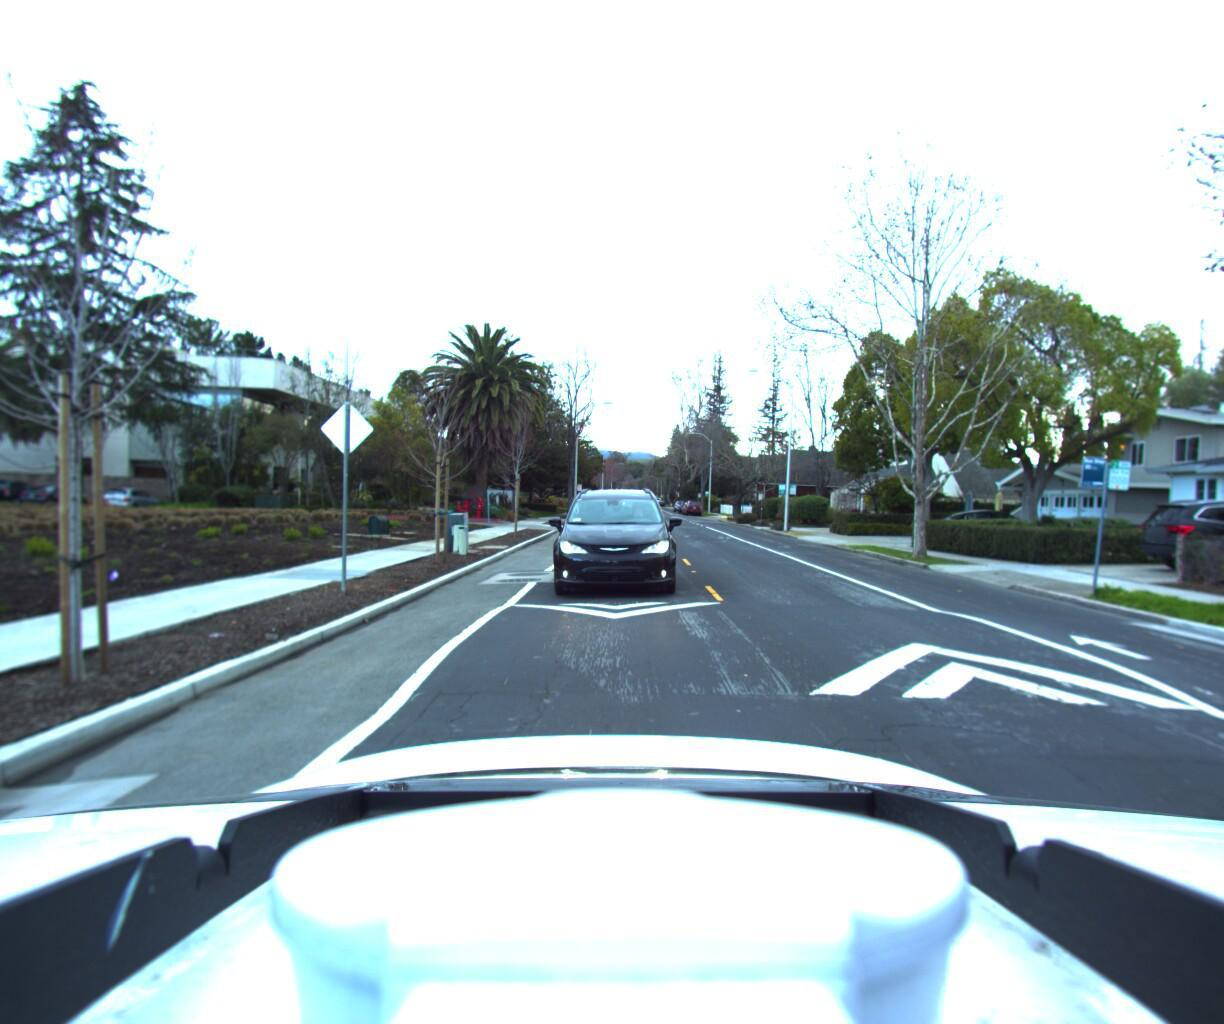car: (547, 481, 678, 603), (1131, 490, 1224, 571), (684, 498, 703, 514)
